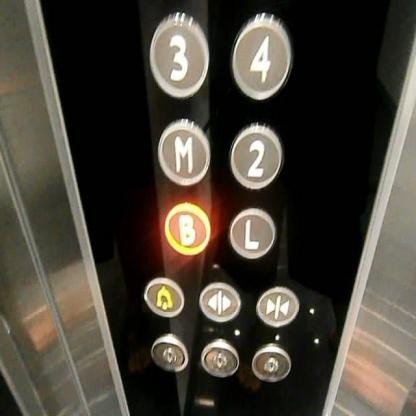2: (229, 121, 283, 190)
3: (147, 10, 209, 99)
4: (231, 13, 292, 101)
B: (162, 201, 211, 257)
L: (228, 207, 276, 258)
M: (156, 116, 211, 189)
alarm: (143, 276, 185, 320)
close: (254, 286, 300, 328)
keyhole: (198, 335, 239, 379), (251, 342, 290, 385), (150, 332, 189, 374)
open: (198, 282, 242, 323)
